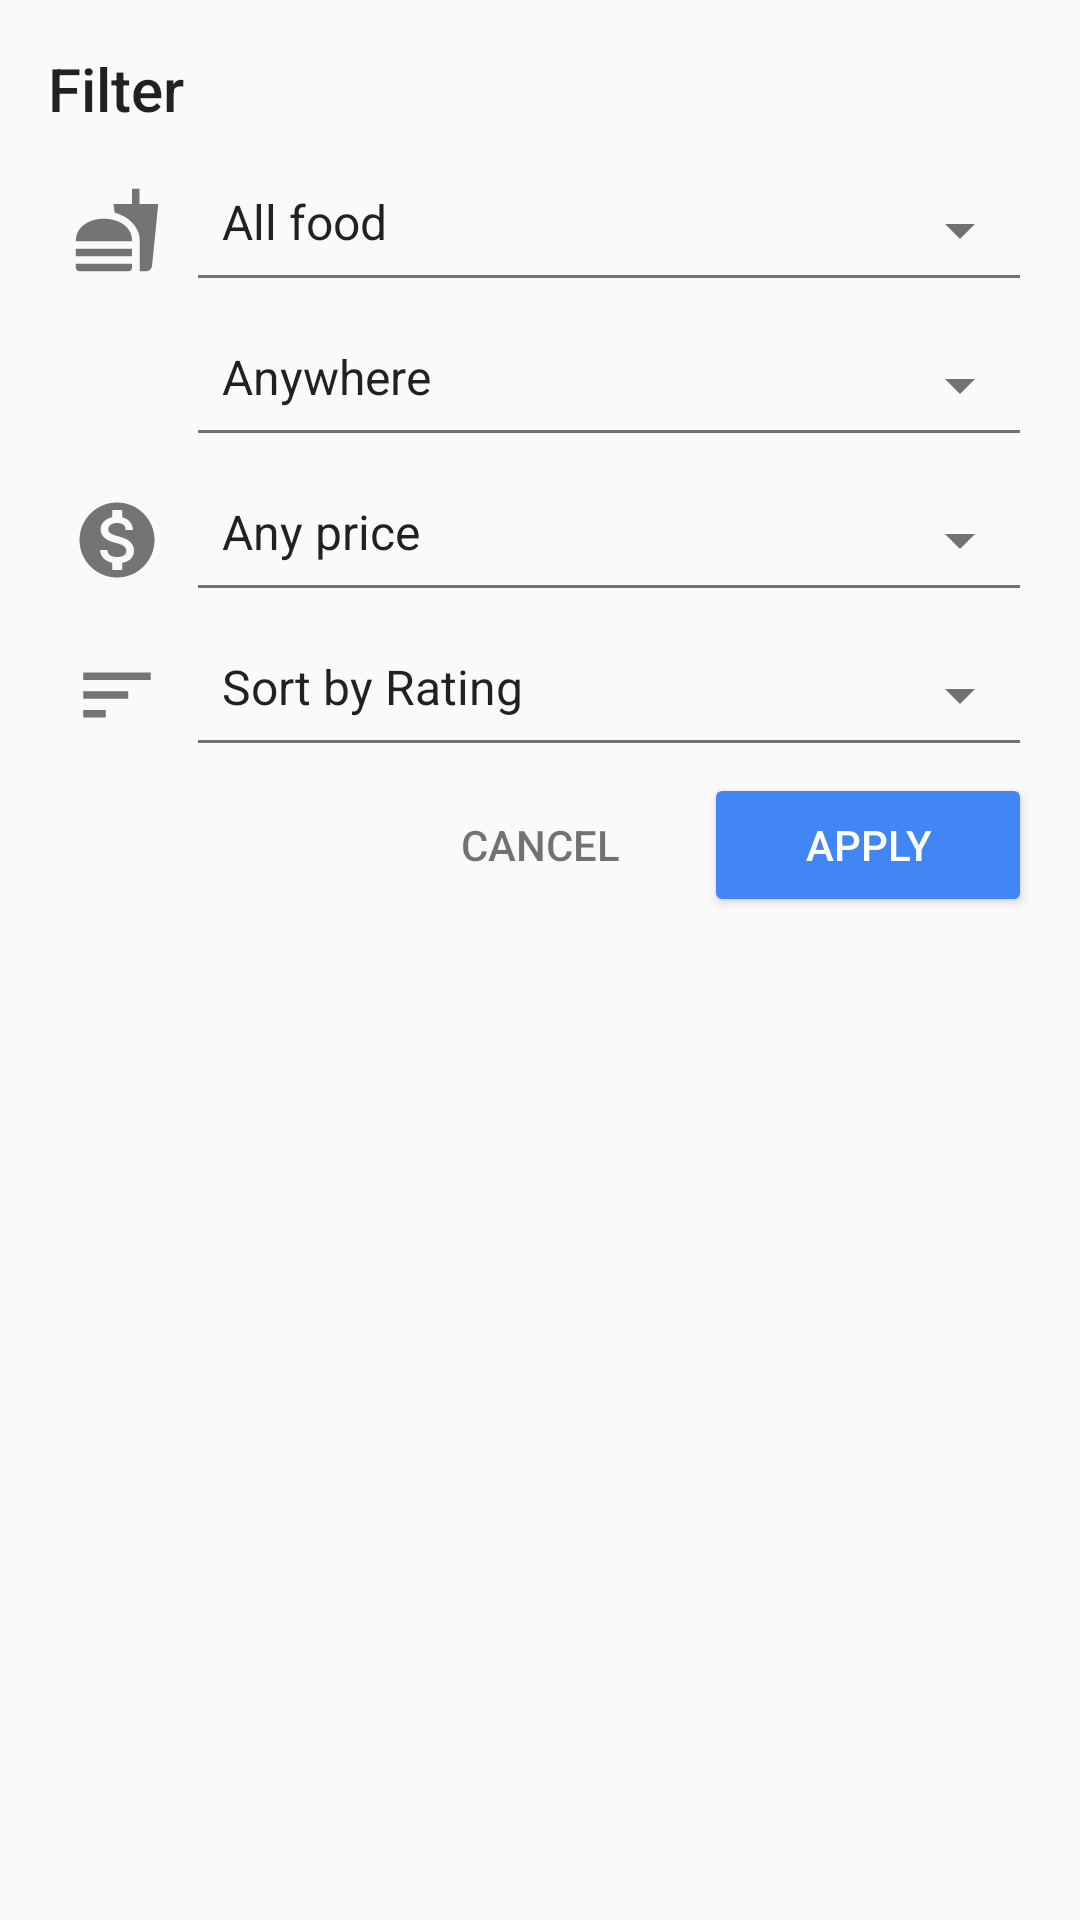

Screen size 1080x1920. Icon name, then its box in pixels as Rect(x1, y1, x2, y2):
fastfood: Rect(75, 188, 159, 272)
monetization on: Rect(79, 502, 155, 578)
